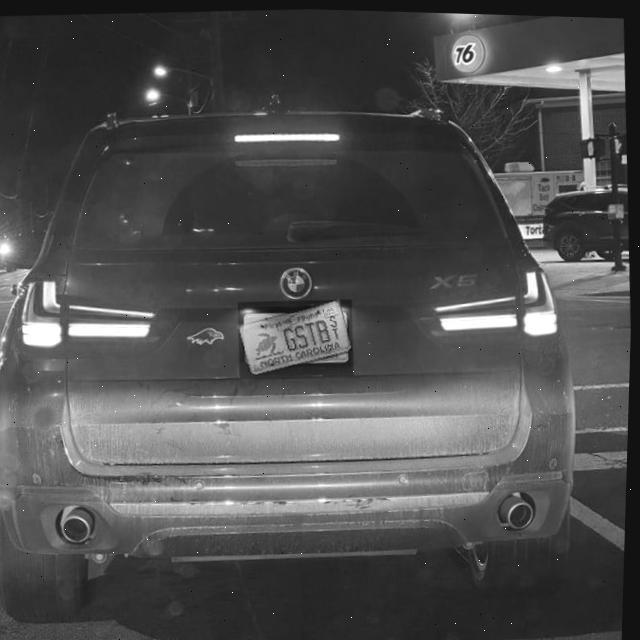LicensePlate: (241, 298, 355, 376)
